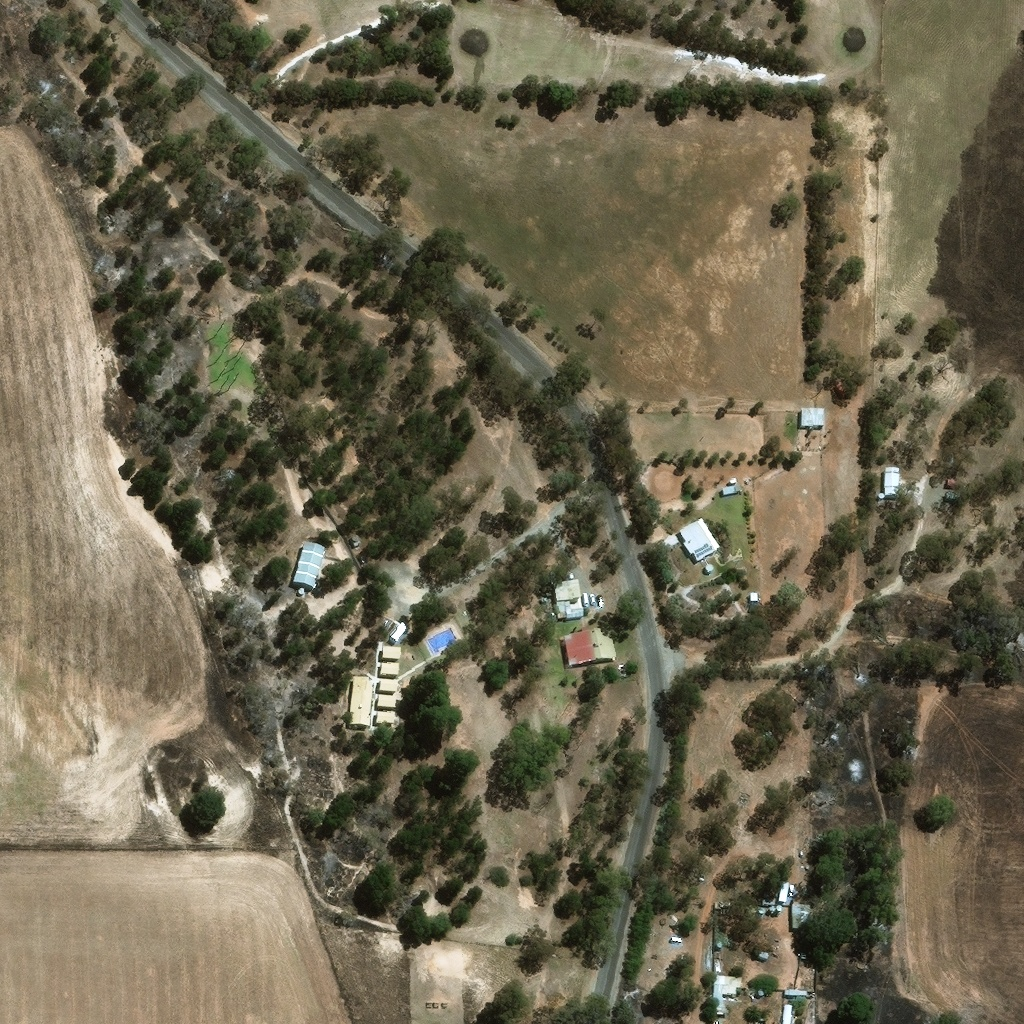0 no-damage: (562, 623, 615, 661), (679, 515, 721, 558), (293, 543, 325, 589), (555, 578, 585, 617), (350, 675, 373, 725), (713, 975, 742, 1005), (792, 901, 811, 929), (801, 405, 826, 425), (389, 615, 408, 641), (885, 463, 900, 493), (377, 710, 395, 723), (382, 662, 399, 674), (382, 646, 400, 657), (378, 695, 395, 706), (380, 678, 397, 689), (782, 1006, 793, 1023), (752, 948, 769, 959), (785, 989, 808, 997), (723, 483, 735, 492), (549, 568, 558, 578), (948, 476, 962, 482), (750, 589, 759, 598), (705, 561, 714, 570), (747, 903, 756, 912), (759, 906, 766, 914), (757, 989, 764, 996), (781, 890, 787, 898), (730, 476, 738, 481), (784, 867, 789, 875), (717, 942, 723, 948), (776, 906, 782, 912), (879, 489, 884, 495), (779, 863, 783, 870), (770, 906, 775, 911)
